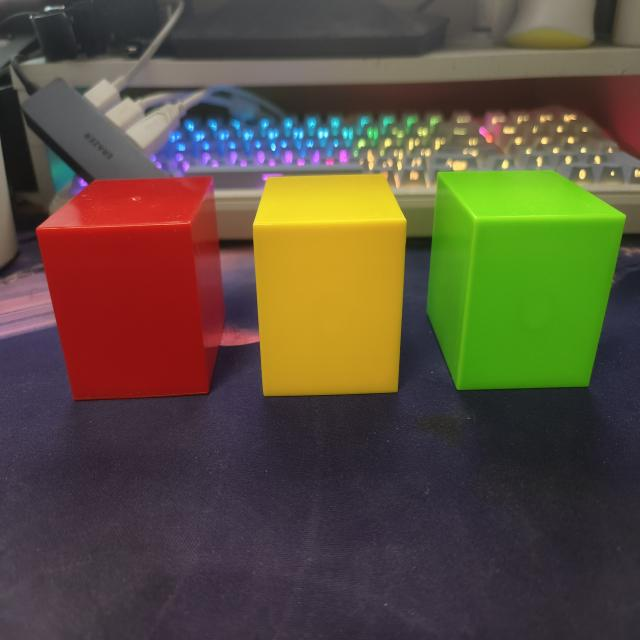green: (426, 169, 626, 395)
red: (36, 175, 223, 404)
yellow: (250, 174, 407, 401)
